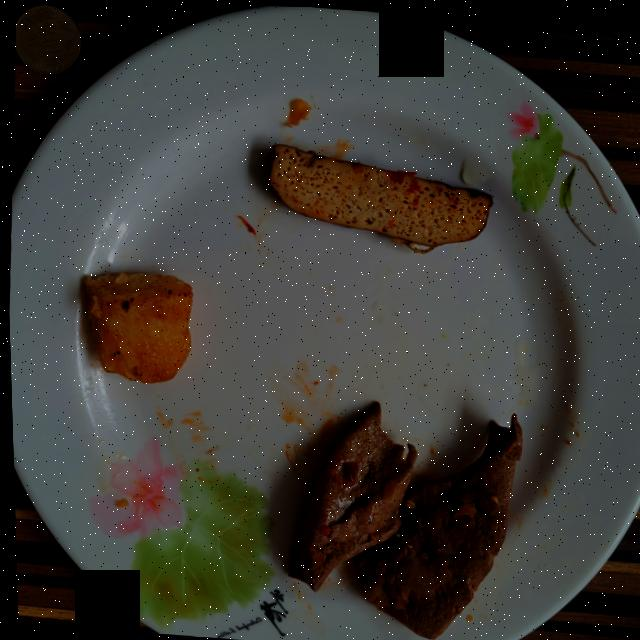coin: (15, 4, 82, 74)
firm tofu: (268, 142, 491, 245)
fried potato: (82, 271, 190, 382)
pig liver: (286, 400, 519, 636)
